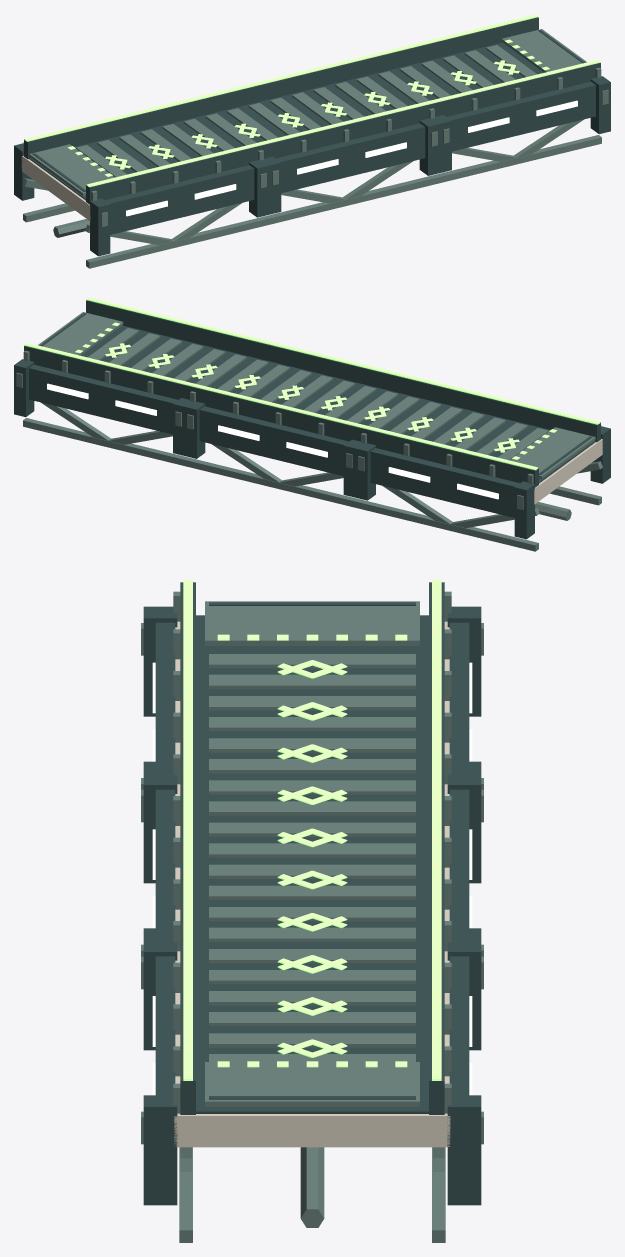
Rendered from Deck_Conveyor_Belt_v4_12_lab.glb.
The picture shows the model from 3 angles, top to bottom: view 1: azimuth 30°, elevation 25°; view 2: azimuth 150°, elevation 25°; view 3: azimuth 270°, elevation 25°; orthographic projection. The views are drawn at different scales.
Parts seen in each view (by area): view 1: Deck_Conveyor_Belt_v4_12, Treads, TreadsRev; view 2: Deck_Conveyor_Belt_v4_12, Treads, TreadsRev; view 3: Deck_Conveyor_Belt_v4_12, Treads, TreadsRev.
Boxes of the visible parts, left/top/right/bottom form: Deck_Conveyor_Belt_v4_12: left=14, top=14, right=610, bottom=268; Treads: left=78, top=45, right=536, bottom=176; TreadsRev: left=76, top=45, right=537, bottom=177; Deck_Conveyor_Belt_v4_12: left=14, top=297, right=610, bottom=551; Treads: left=88, top=328, right=546, bottom=459; TreadsRev: left=88, top=328, right=548, bottom=460; Deck_Conveyor_Belt_v4_12: left=141, top=580, right=483, bottom=1242; Treads: left=209, top=654, right=415, bottom=1061; TreadsRev: left=209, top=654, right=415, bottom=1061.
Size of the model in its own units: 12.05 by 1.83 by 3.48.
